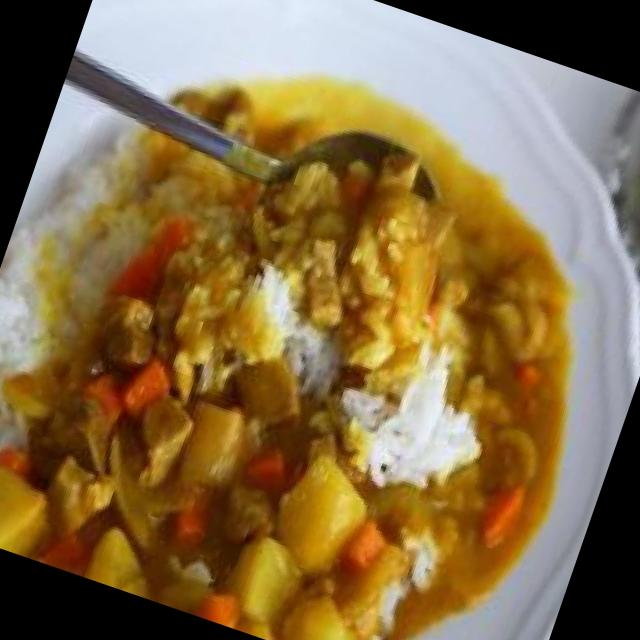curry: (0, 31, 578, 640)
